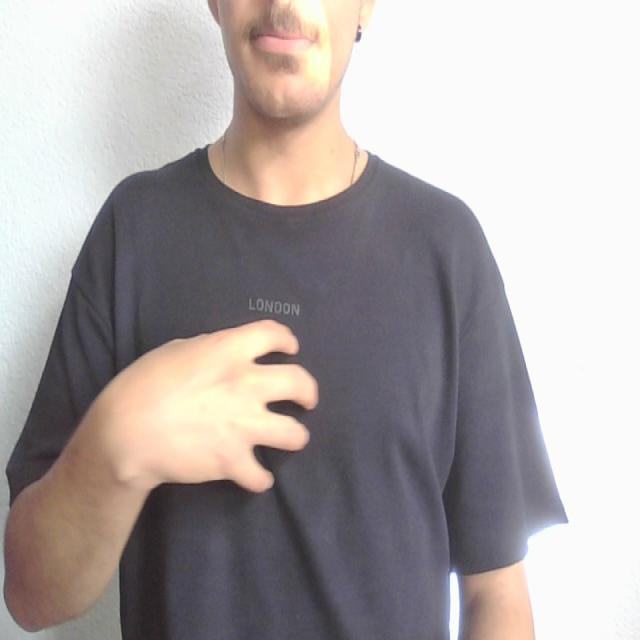Anne: (81, 314, 442, 502)
